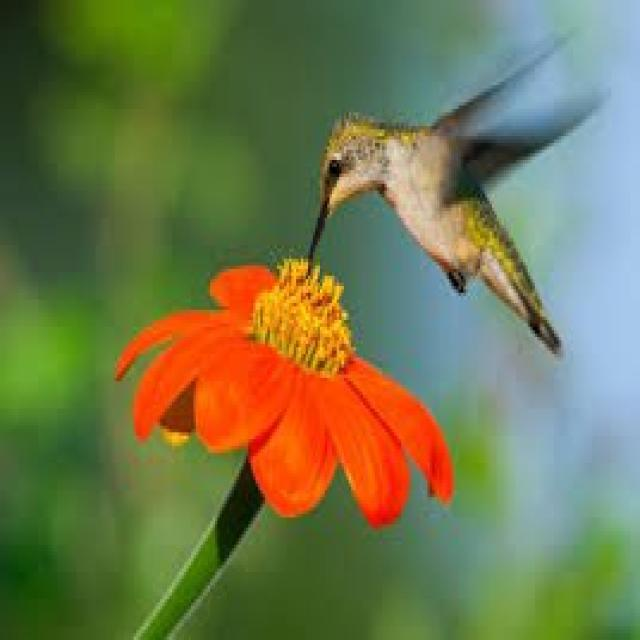Humming Bird: (309, 68, 564, 360)
